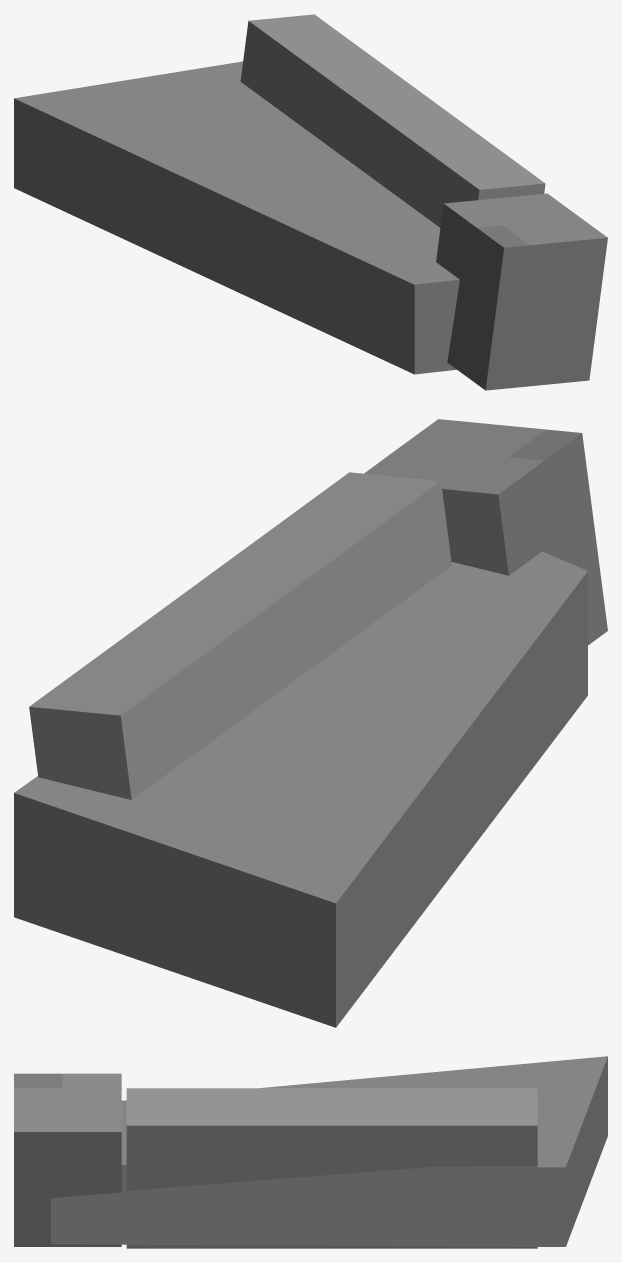
The picture shows the model from 3 angles, top to bottom: view 1: azimuth 30°, elevation 25°; view 2: azimuth 150°, elevation 25°; view 3: azimuth 270°, elevation 25°; orthographic projection. The views are drawn at different scales.
Size of the model in its own units: 0.1369 by 0.0791 by 0.3035.
